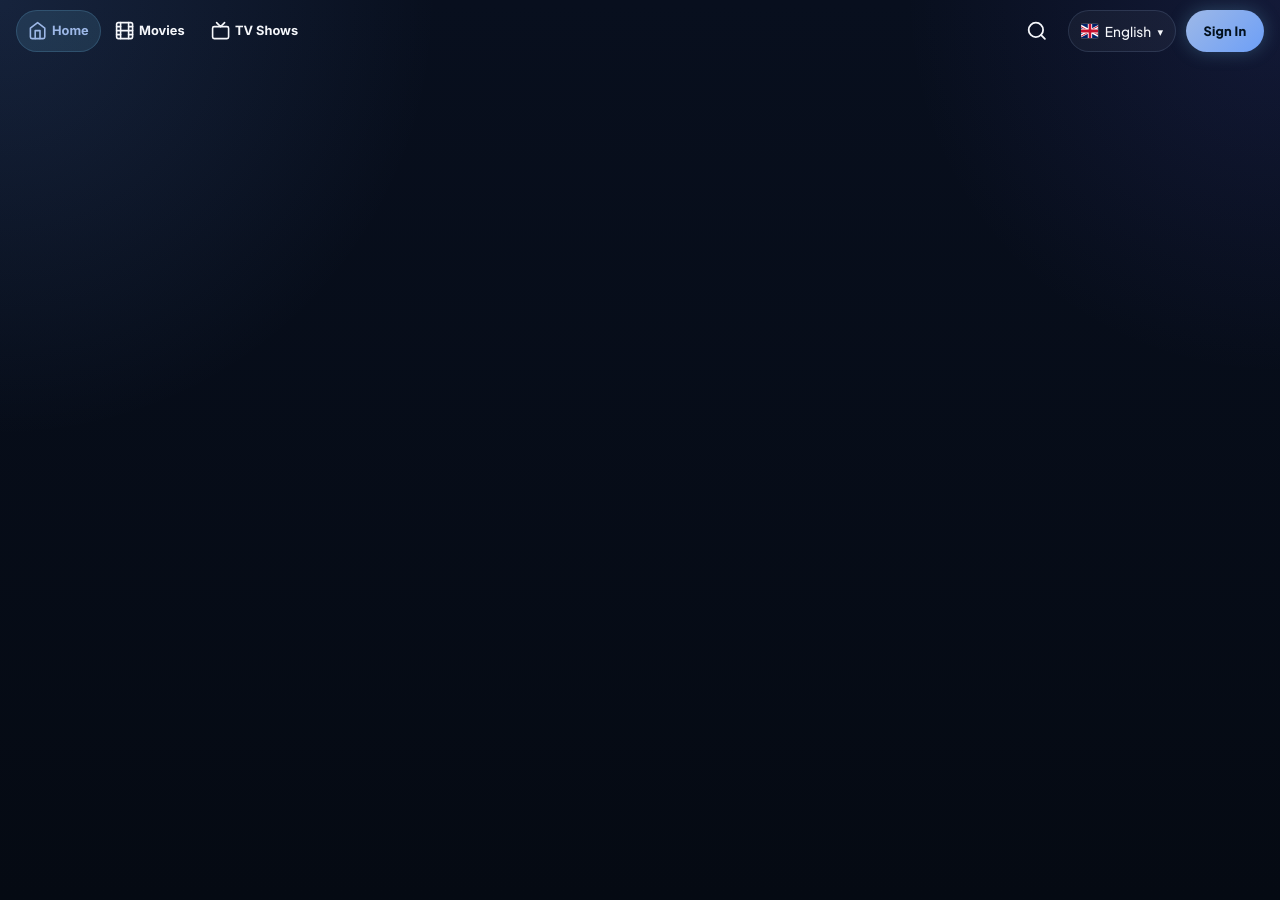
Navbar search overlay dismissal › clears the query when dismissed by an outside click
Press /
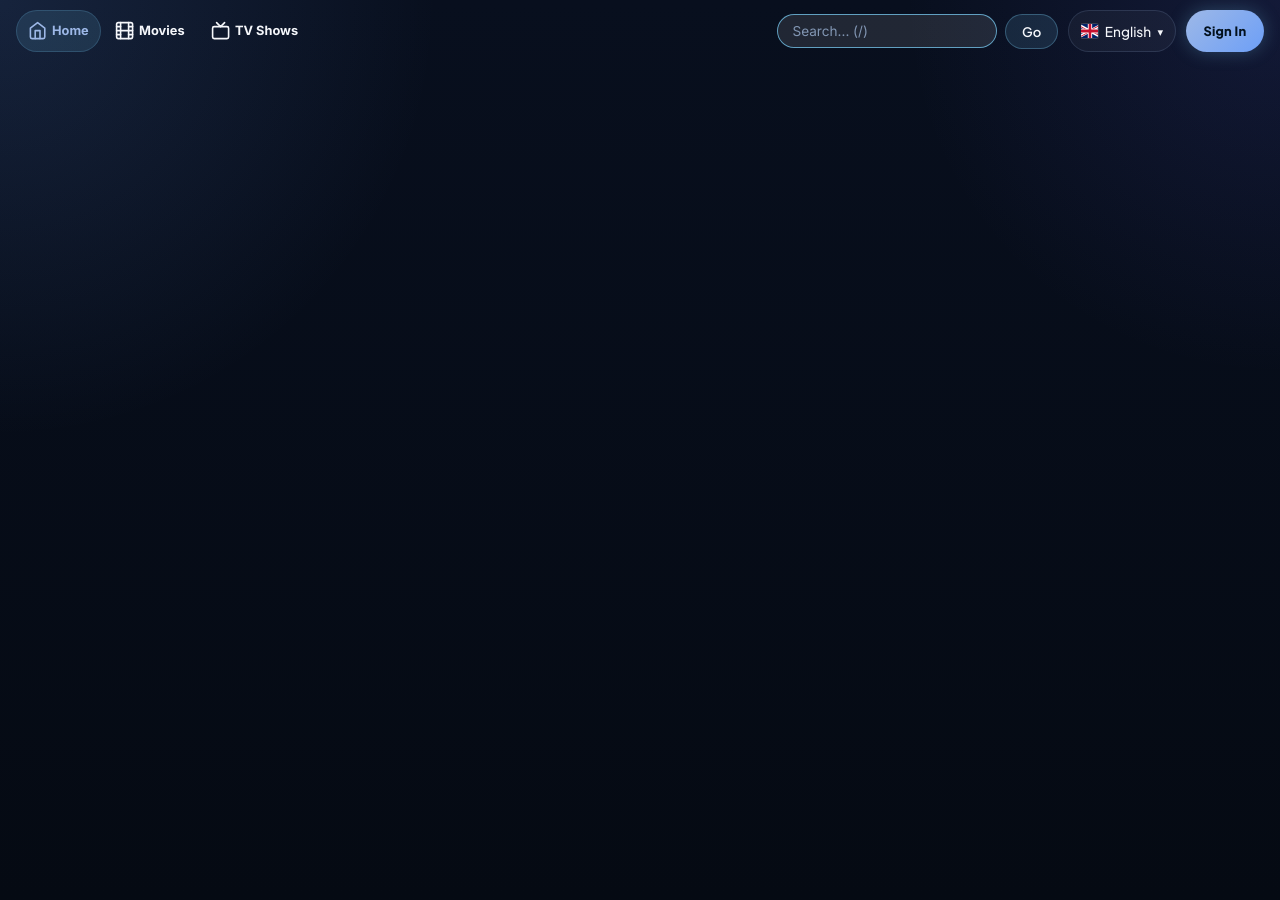
In the dropdown: (887, 31) [777, 14, 997, 48], type "matrix"
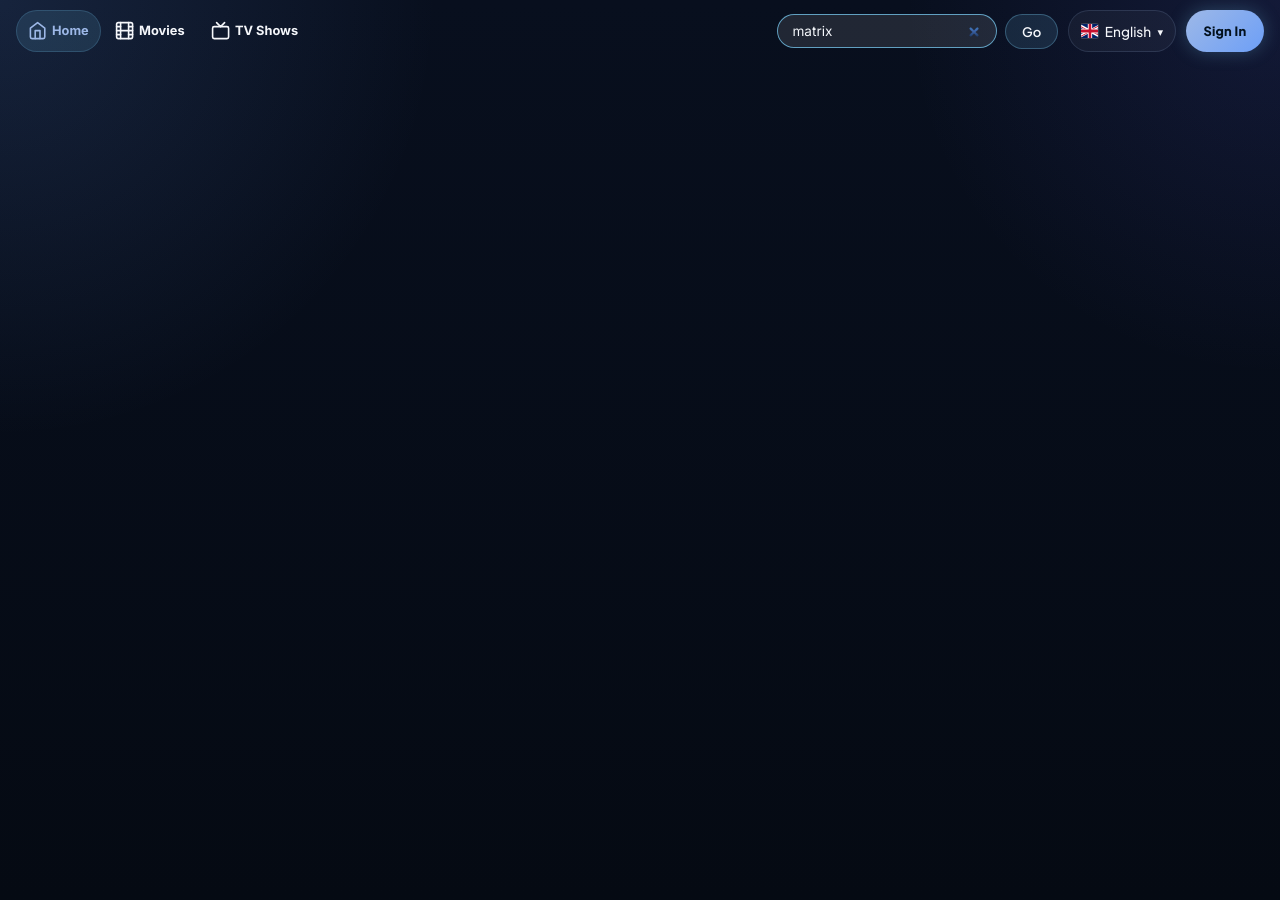
Press the mouse on the element showing "Home Movies TV Shows Go English ▾ Sign In": (640, 450) [0, 0, 1279, 899]
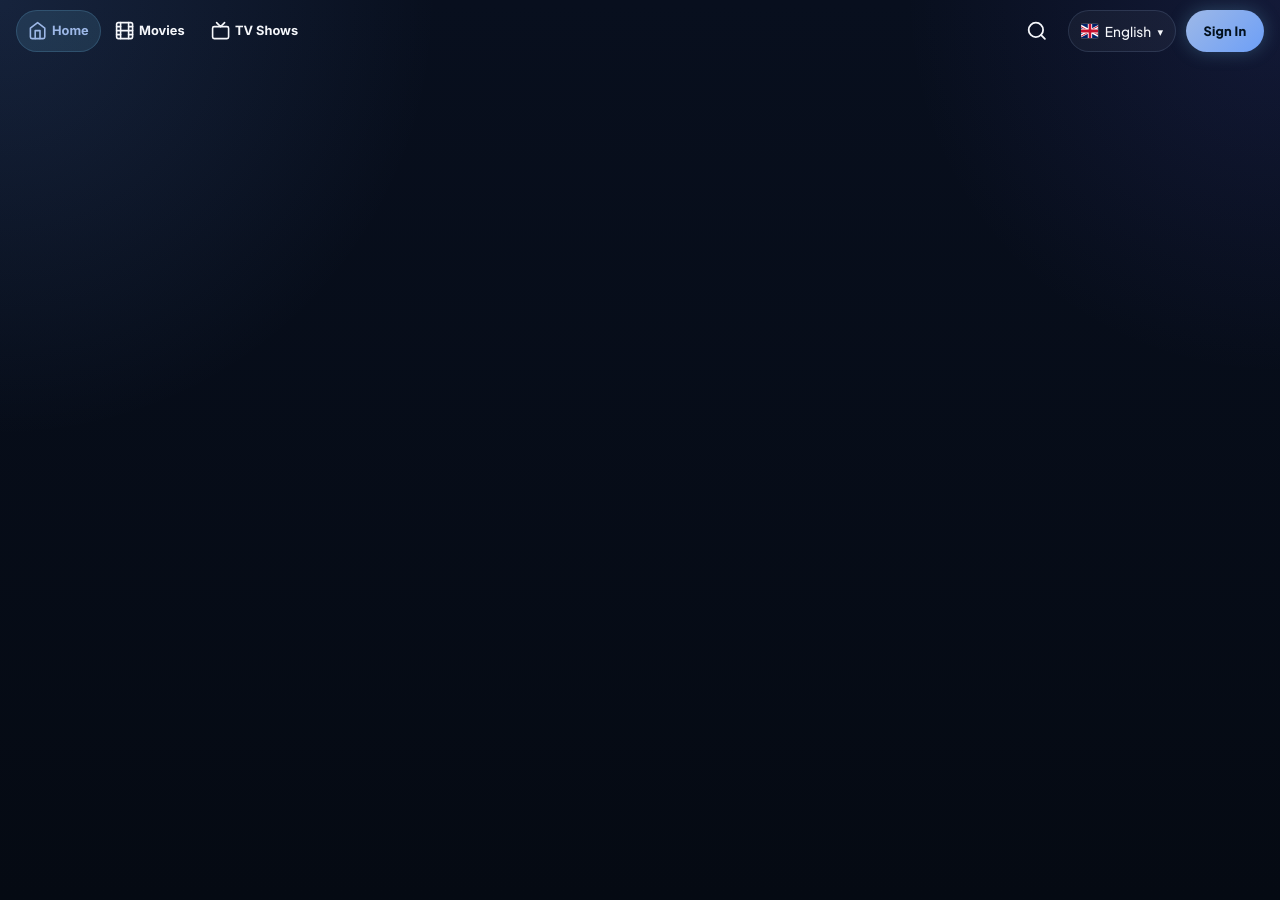
Check: the element showing "Home Movies TV Shows English ▾ Sign In" is empty, box [16, 0, 1264, 62]
Check: the button "Go" is gone
